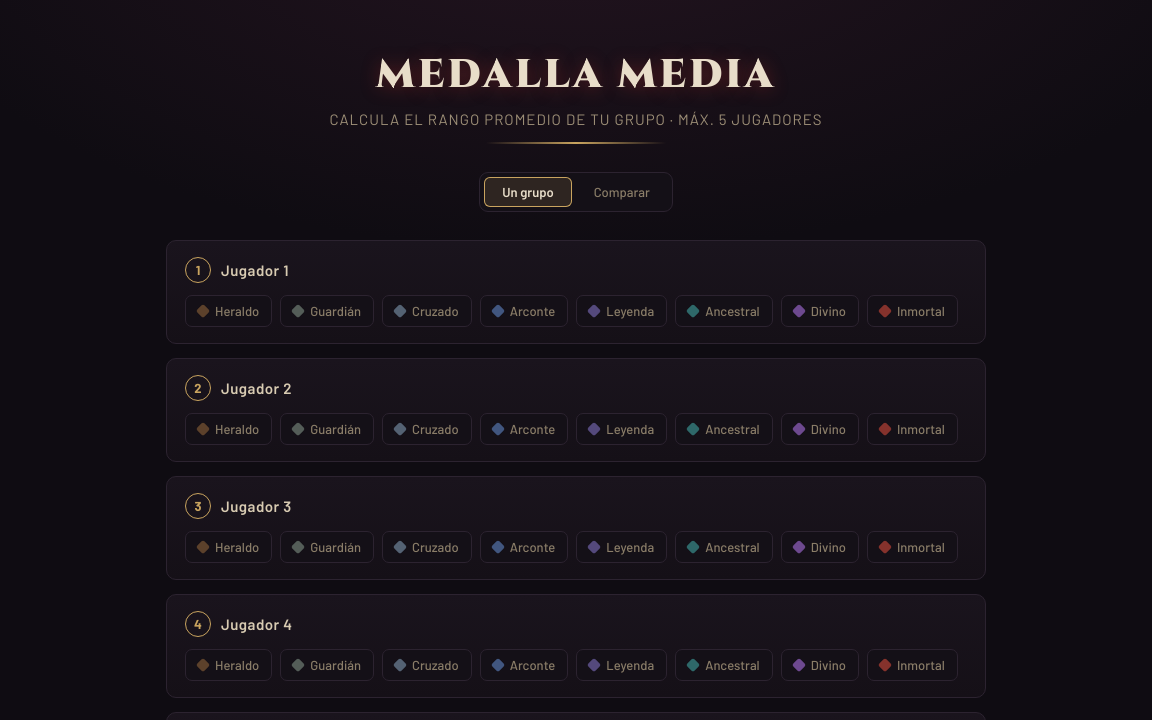
Test: App › lets a player change their stars
Click the 1st button "Cruzado" at (427, 311), box [382,295,472,327]
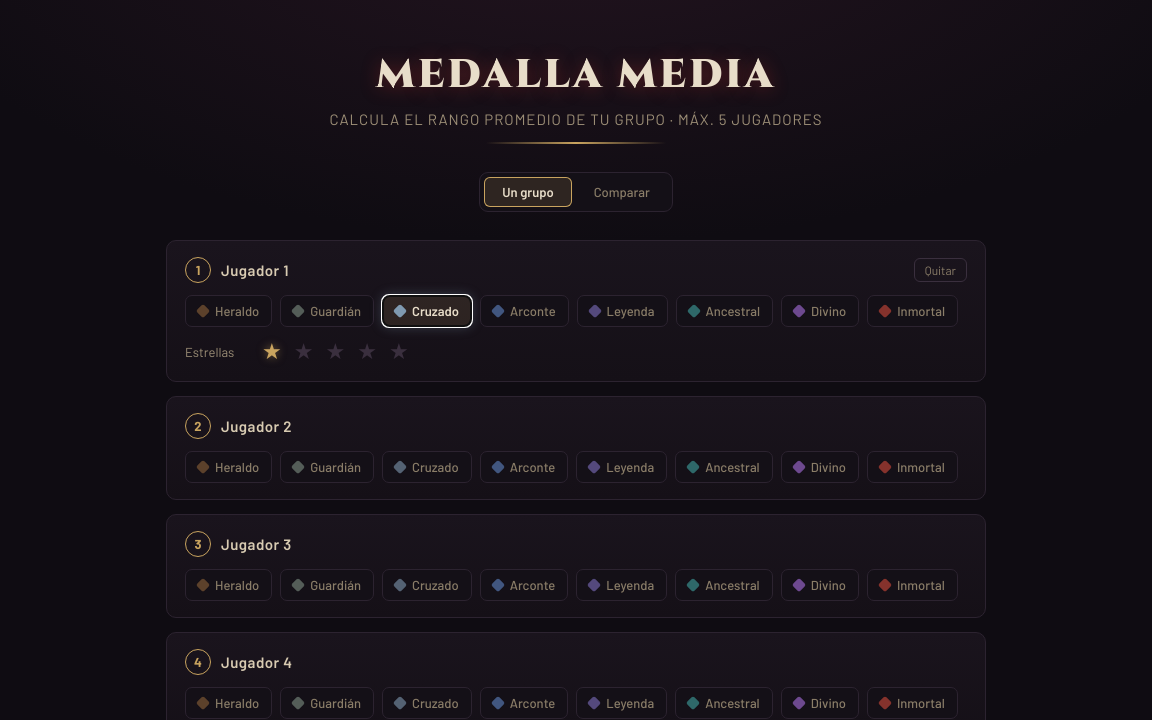
Click the 4th button "★" at (367, 352), box [354,339,380,365]
(page scrolled)
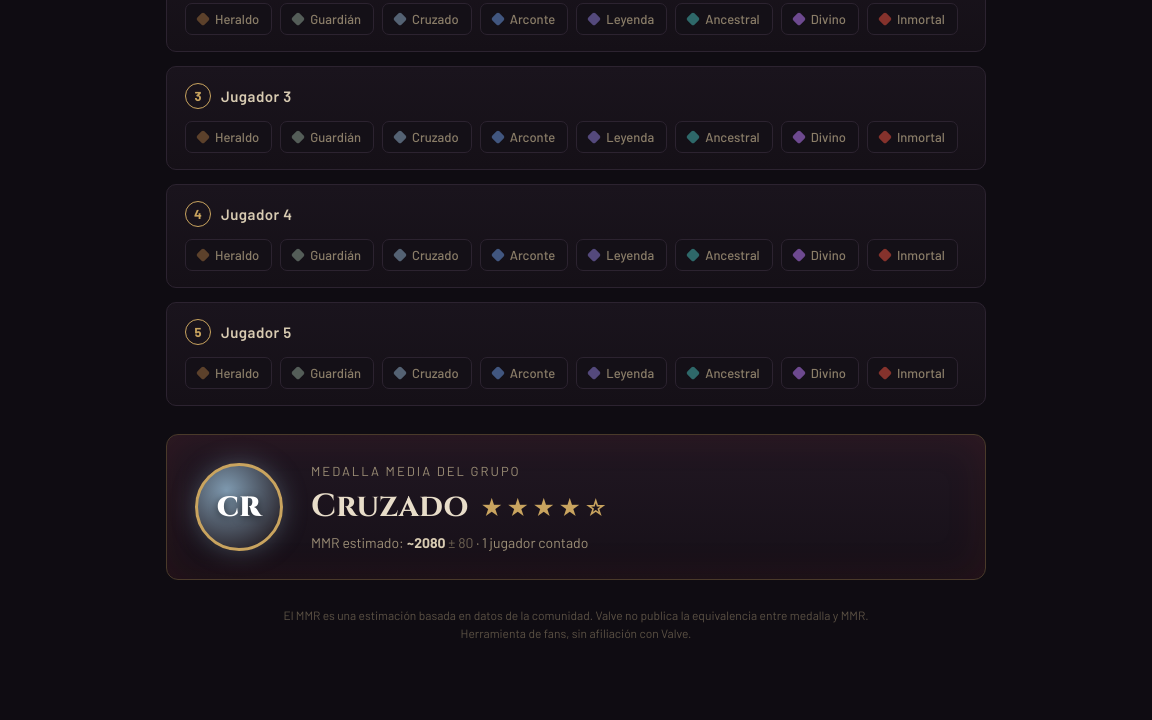
Check: the text "Cruzado" is shown, box [311,485,468,528]
Check: the text named "4 de 5 estrellas" is shown, box [480,494,610,521]
